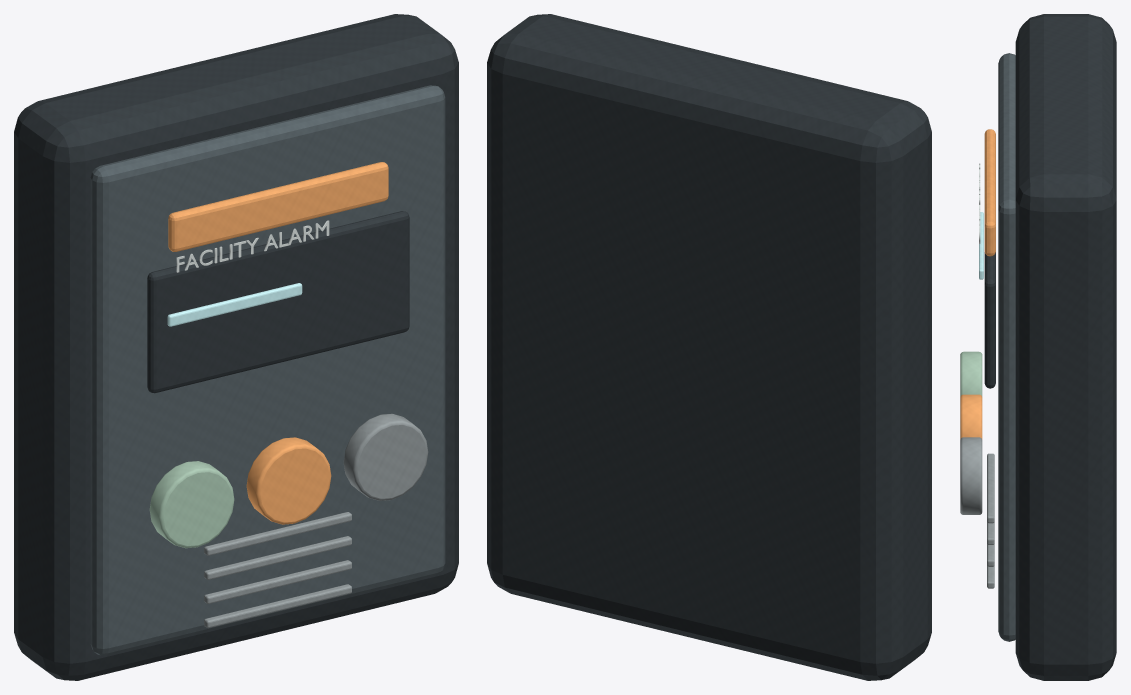
File: SecurityAlarm.glb
The picture shows the model from 3 angles, left to right: view 1: azimuth 30°, elevation 25°; view 2: azimuth 150°, elevation 25°; view 3: azimuth 270°, elevation 25°; orthographic projection. The views are drawn at different scales.
Parts seen in each view (by area): view 1: SecurityAlarm_Mesh; view 2: SecurityAlarm_Mesh; view 3: SecurityAlarm_Mesh.
Part boxes in pixels (x1,y1,x2,y2): SecurityAlarm_Mesh: (14, 14, 458, 680); SecurityAlarm_Mesh: (487, 14, 931, 680); SecurityAlarm_Mesh: (960, 14, 1116, 680).
Size of the model in its own units: 0.68 by 0.88 by 0.2475.
Materials: 7 (7 with a texture image).
